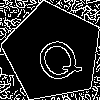Q: (28, 27, 85, 88)
